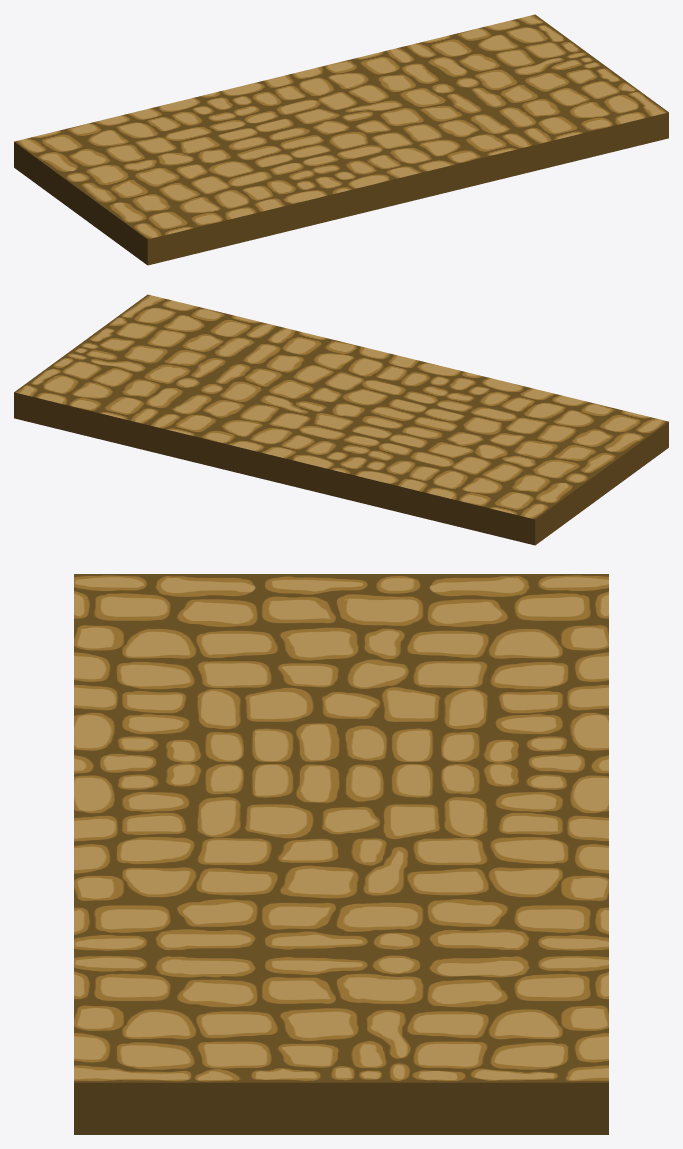
The model's file is road (1).fbx.
3 renders of one model, top to bottom at view 1: azimuth 30°, elevation 25°; view 2: azimuth 150°, elevation 25°; view 3: azimuth 270°, elevation 25°, orthographic. The views are drawn at different scales.
Visible parts, largest first — view 1: road; view 2: road; view 3: road.
Part boxes in pixels (x1,y1,x2,y2): road: (14, 14, 668, 265); road: (14, 294, 668, 545); road: (74, 574, 608, 1134).
Size of the model in its own units: 24.04 by 1.15 by 10.69.
1 material, 1 textured.
